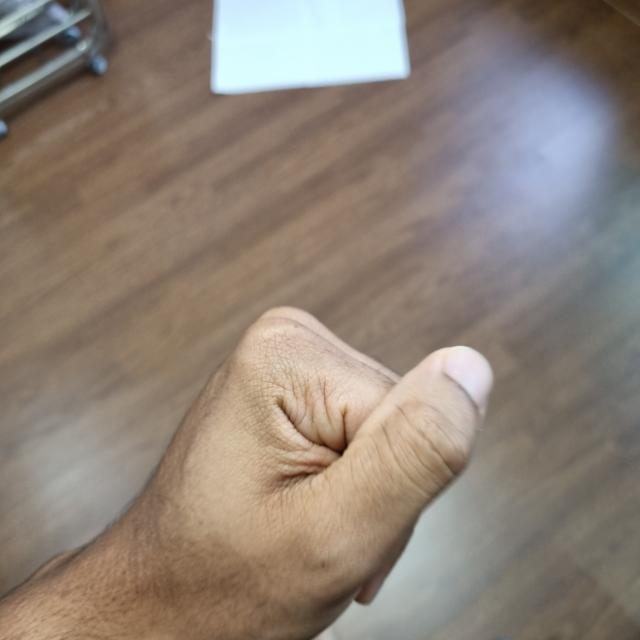Rock: (117, 309, 482, 638)
